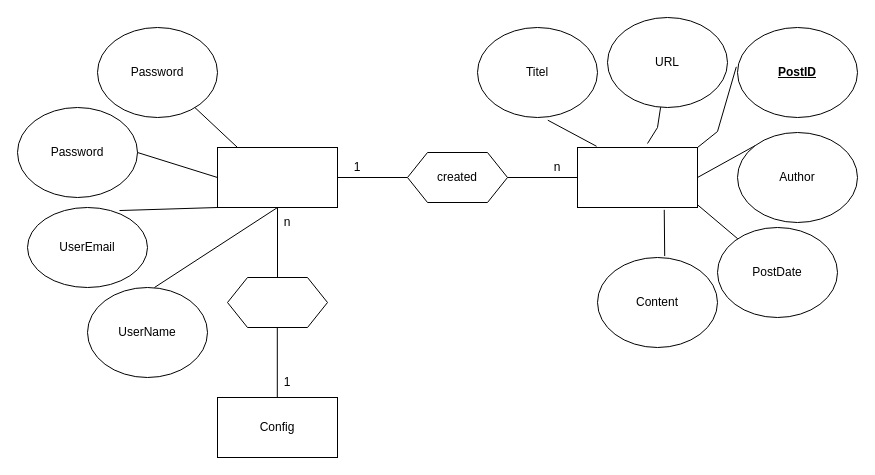
This 875x475 diagram has some shape labels left out. The centre of each missing label's shape, as x and y in pixels:
configure: [277,302]
Post: [637,177]
User: [277,177]
